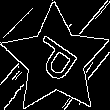P_SE: (26, 31, 86, 89)
